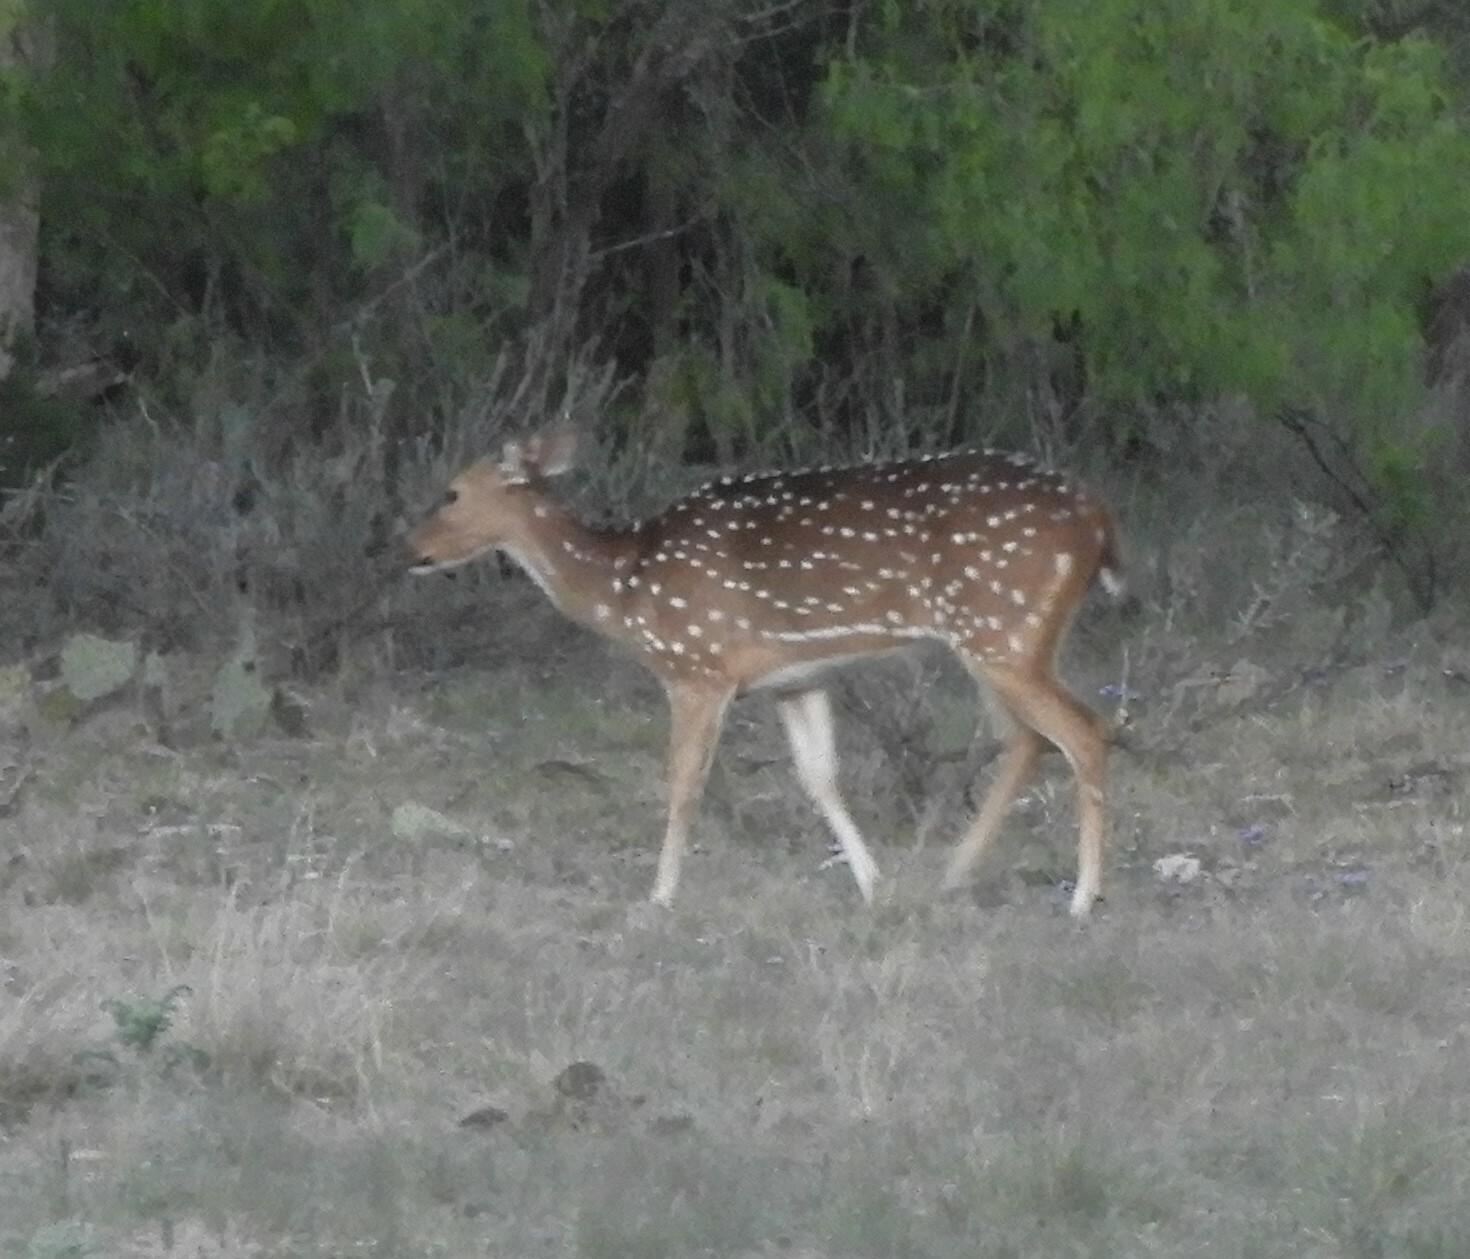Deer: (403, 426, 1125, 917)
